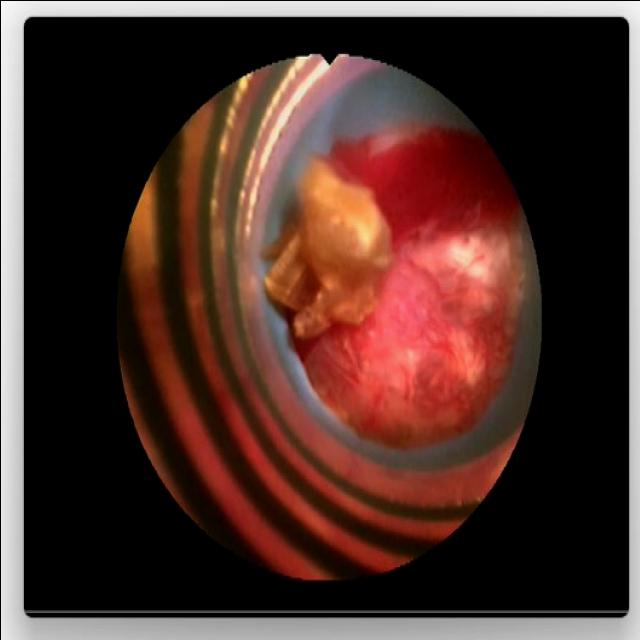stone: (267, 163, 387, 334)
